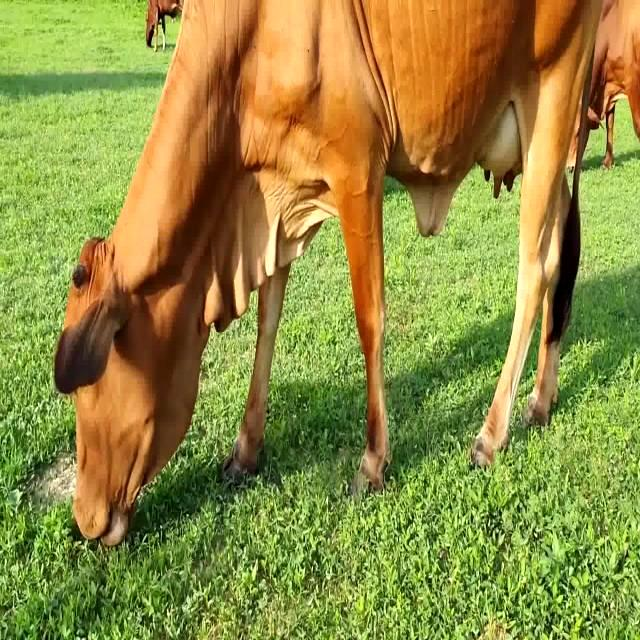COW: (55, 0, 601, 544)
